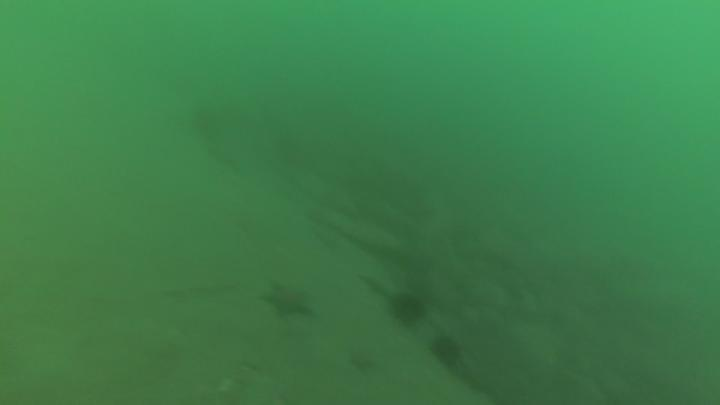echinus: (387, 292, 430, 331), (430, 334, 466, 373)
starfish: (257, 279, 319, 322)
